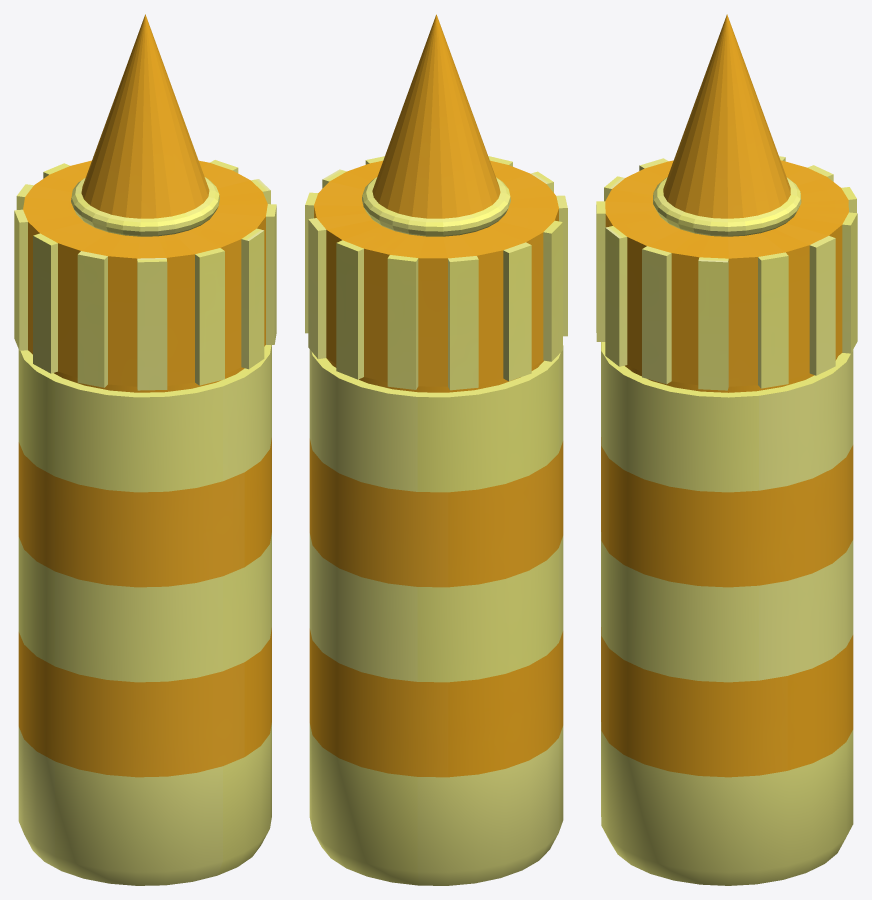
File: Yellow Sauce Bottle.fbx
3 views of the same model, side by side, from view 1: azimuth 30°, elevation 25°; view 2: azimuth 150°, elevation 25°; view 3: azimuth 270°, elevation 25° (orthographic).
Parts seen in each view (by area): view 1: Yellow lower stripes 1, Yellow lower stripes 2, Yellow upper, Yellow upper stripes, Yellow upper part bottle, Yellow upper part 2; view 2: Yellow lower stripes 1, Yellow lower stripes 2, Yellow upper, Yellow upper stripes, Yellow upper part bottle, Yellow upper part 2; view 3: Yellow lower stripes 1, Yellow lower stripes 2, Yellow upper, Yellow upper stripes, Yellow upper part bottle, Yellow upper part 2.
Part boxes in pixels (x1=…): Yellow lower stripes 1: x1=18, y1=345, x2=271, y2=885; Yellow lower stripes 2: x1=18, y1=438, x2=271, y2=777; Yellow upper: x1=23, y1=160, x2=267, y2=392; Yellow upper stripes: x1=14, y1=160, x2=276, y2=390; Yellow upper part bottle: x1=81, y1=14, x2=209, y2=218; Yellow upper part 2: x1=71, y1=177, x2=219, y2=236; Yellow lower stripes 1: x1=309, y1=345, x2=563, y2=885; Yellow lower stripes 2: x1=309, y1=438, x2=563, y2=777; Yellow upper: x1=314, y1=160, x2=558, y2=392; Yellow upper stripes: x1=305, y1=156, x2=567, y2=390; Yellow upper part bottle: x1=372, y1=14, x2=500, y2=218; Yellow upper part 2: x1=362, y1=177, x2=510, y2=236; Yellow lower stripes 1: x1=601, y1=342, x2=853, y2=885; Yellow lower stripes 2: x1=601, y1=437, x2=853, y2=777; Yellow upper: x1=605, y1=160, x2=848, y2=392; Yellow upper stripes: x1=596, y1=156, x2=857, y2=390; Yellow upper part bottle: x1=663, y1=14, x2=790, y2=218; Yellow upper part 2: x1=653, y1=177, x2=801, y2=236.
Bounding box in the file's own units: 501 × 1729 × 498.
Materials: 1 (1 with a texture image).
